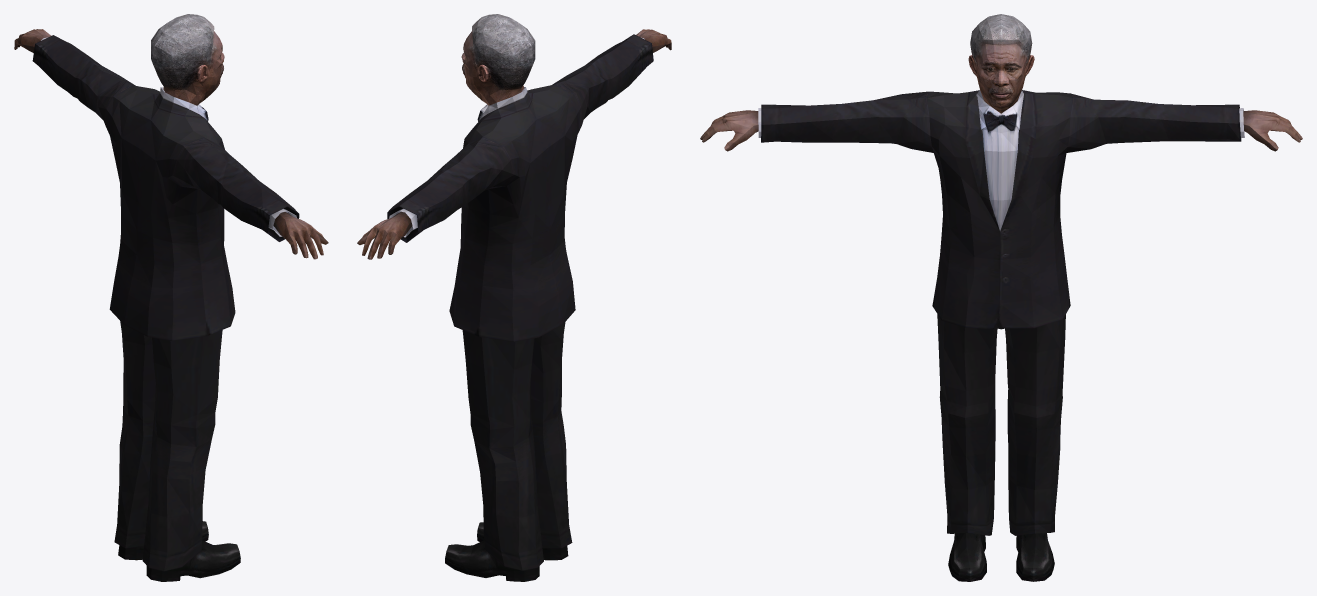
Rendered from Morgan Freeman smocking.obj.
3 views of the same model, side by side, from view 1: azimuth 30°, elevation 25°; view 2: azimuth 150°, elevation 25°; view 3: azimuth 270°, elevation 25° (orthographic).
Visible parts, largest first — view 1: 0001_Object.003_Mesh., 0004_Object.004_Mesh., 0002_Object.003_Mesh.; view 2: 0001_Object.003_Mesh., 0004_Object.004_Mesh., 0002_Object.003_Mesh.; view 3: 0001_Object.003_Mesh., 0004_Object.004_Mesh., 0005_Object.001_Mesh., 0002_Object.003_Mesh..
Part boxes in pixels (x1=…): 0001_Object.003_Mesh.: x1=32, y1=35, x2=299, y2=581; 0004_Object.004_Mesh.: x1=151, y1=14, x2=224, y2=105; 0002_Object.003_Mesh.: x1=14, y1=29, x2=328, y2=259; 0001_Object.003_Mesh.: x1=387, y1=34, x2=653, y2=581; 0004_Object.004_Mesh.: x1=461, y1=14, x2=535, y2=105; 0002_Object.003_Mesh.: x1=357, y1=29, x2=671, y2=259; 0001_Object.003_Mesh.: x1=758, y1=90, x2=1244, y2=581; 0004_Object.004_Mesh.: x1=968, y1=14, x2=1034, y2=113; 0005_Object.001_Mesh.: x1=977, y1=90, x2=1023, y2=231; 0002_Object.003_Mesh.: x1=700, y1=110, x2=1302, y2=151.
Bounding box in the file's own units: 0.364 × 1.87 × 1.86.
Materials: 2 (2 with a texture image).
